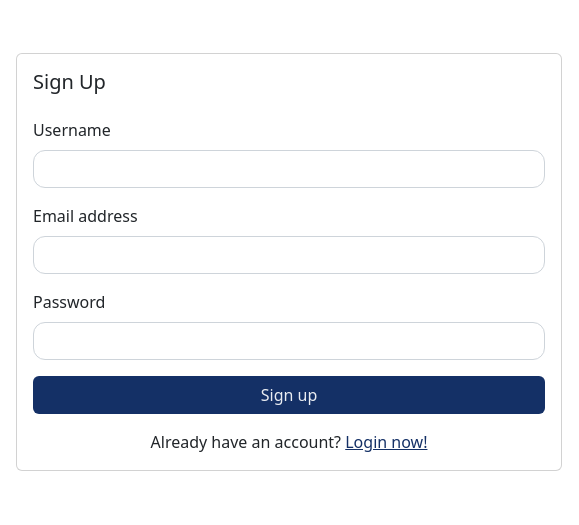
it: SignUpPage › displays error message on sign up failure
Click the button "Sign up".
click(289, 395)  # box [33, 376, 545, 414]
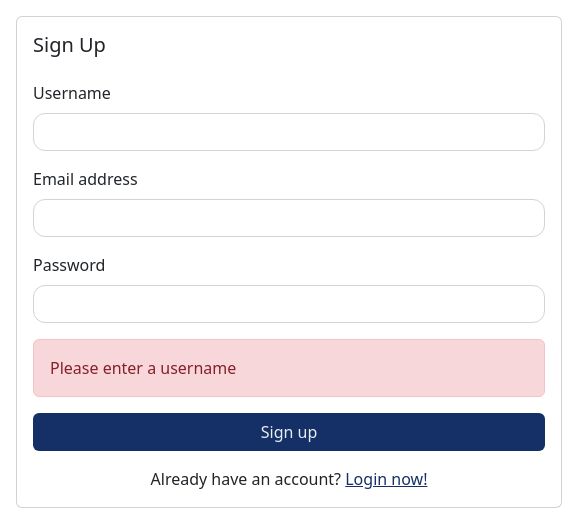
Now the text "Please enter a username" is shown, box [33, 339, 545, 397]
